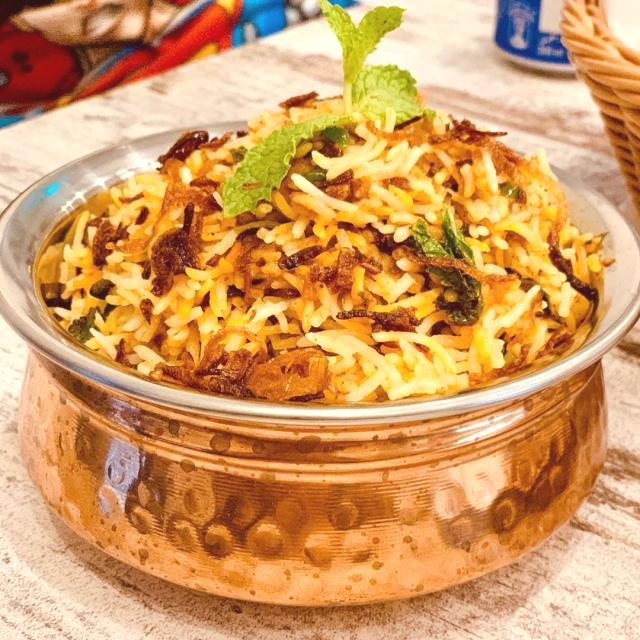biryani: (65, 68, 639, 490)
